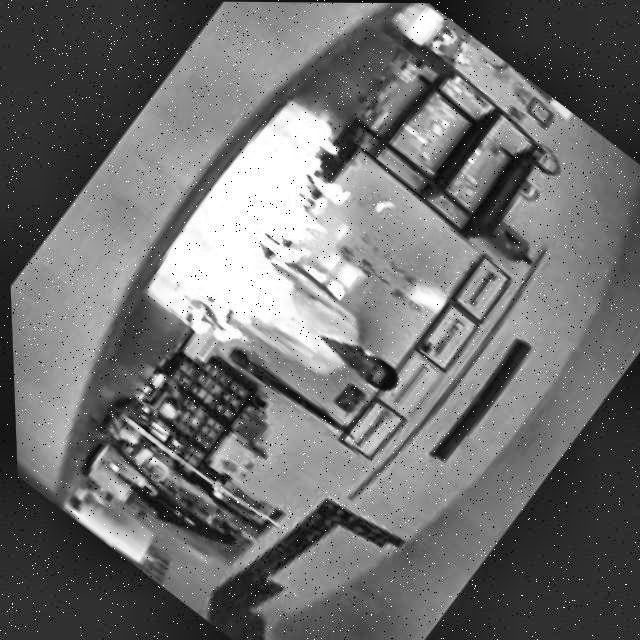Fire: (143, 103, 390, 372)
